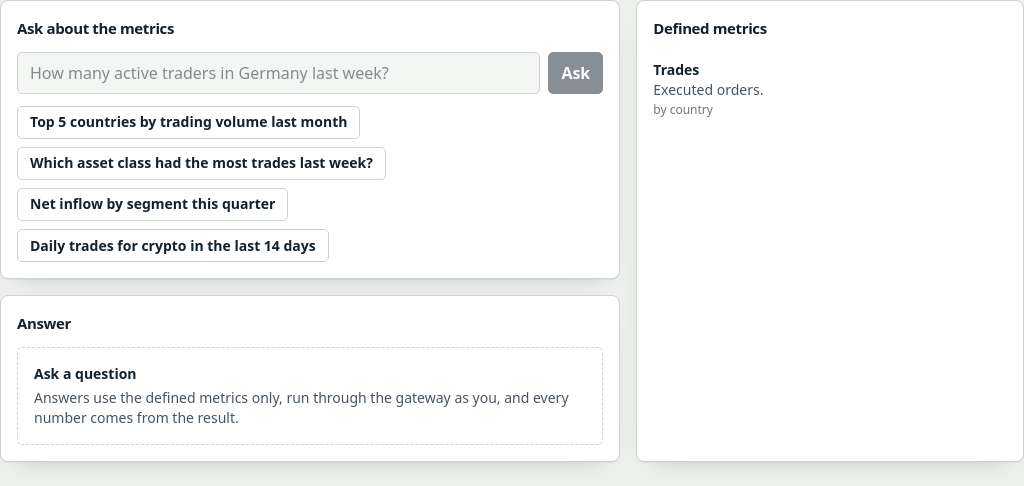
ask › answers with the text written from the result and shows how
Expected: the text "Executed orders." is shown, [653, 80, 763, 98]
Click the button "Top 5 countries by trading volume last month".
click(189, 122)  # box [17, 106, 360, 139]
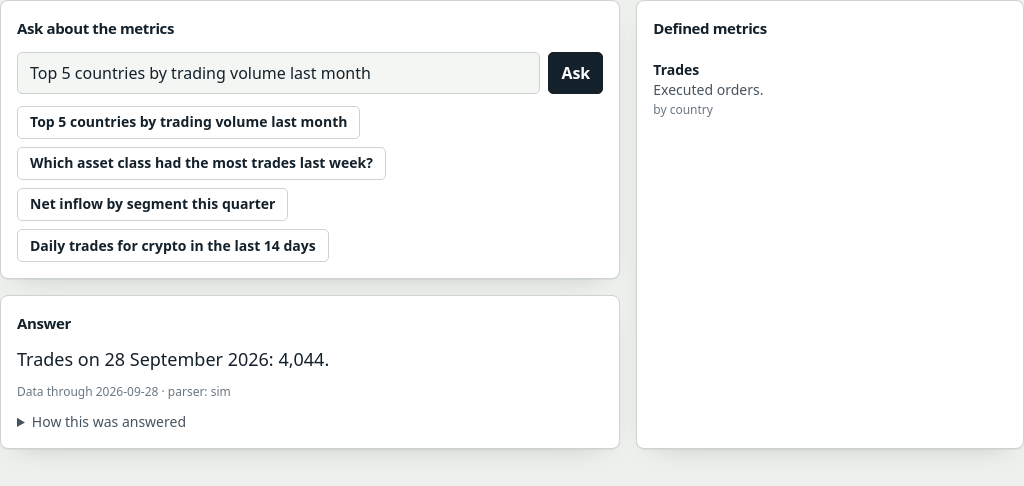
Expected: the text "Trades on 28 September 2026: 4,044." is shown, [17, 347, 329, 371]
Expected: the heading "How this was answered" is shown, [32, 412, 186, 430]
